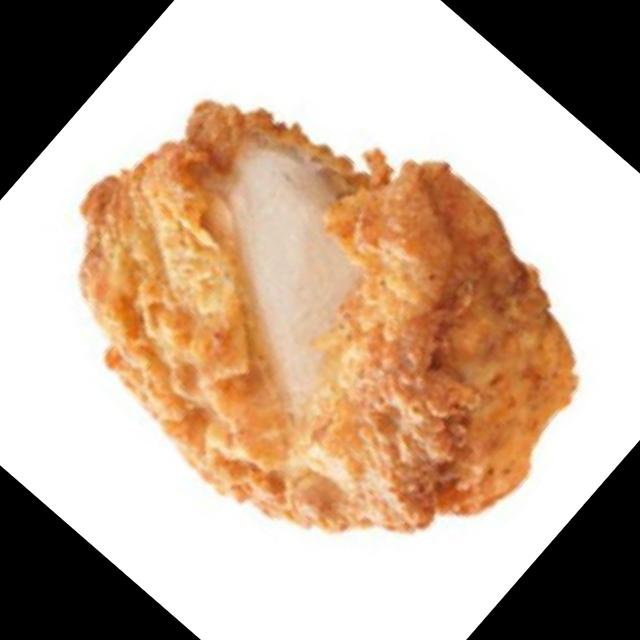Fried Chicken: (78, 98, 580, 536)
